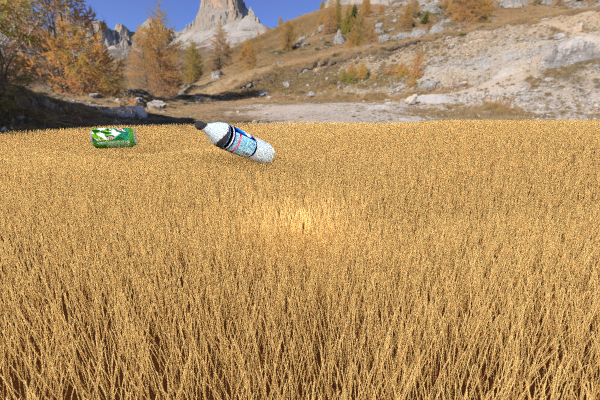bottle: (194, 120, 275, 164)
can: (50, 124, 94, 147), (90, 127, 137, 148)
